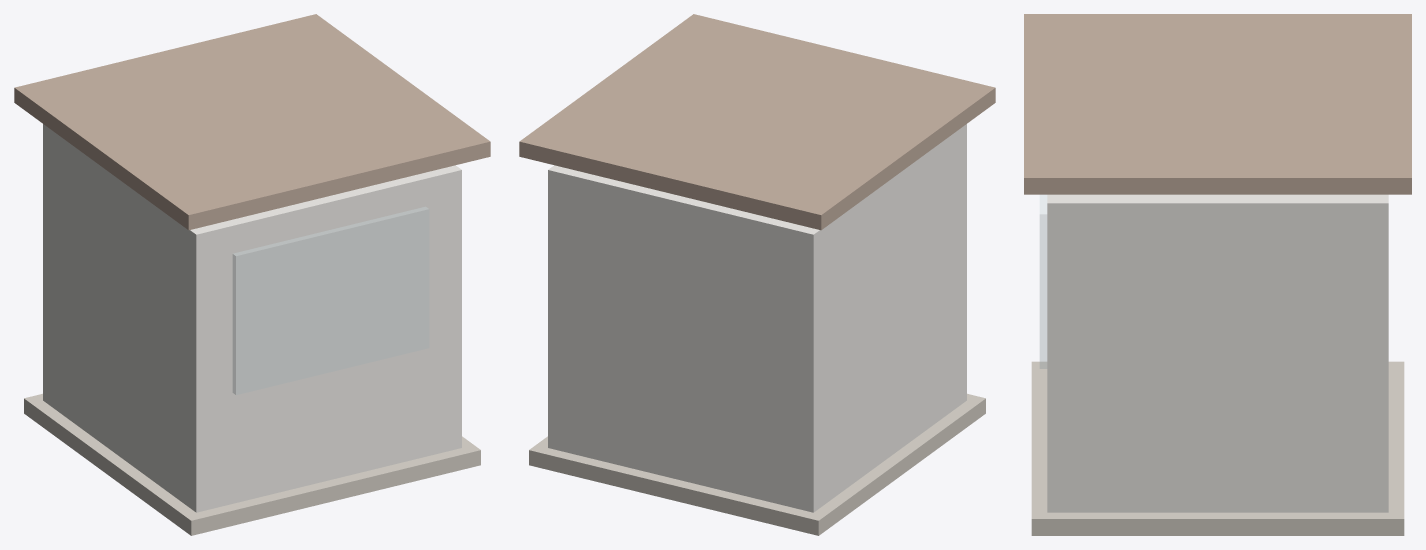
The model's file is security-booth.glb.
3 renders of one model, left to right at view 1: azimuth 30°, elevation 25°; view 2: azimuth 150°, elevation 25°; view 3: azimuth 270°, elevation 25°, orthographic. The views are drawn at different scales.
Visible parts, largest first — view 1: spatial-root; view 2: spatial-root; view 3: spatial-root.
Part boxes in pixels (x1=…): spatial-root: x1=14, y1=14, x2=490, y2=535; spatial-root: x1=519, y1=14, x2=995, y2=535; spatial-root: x1=1024, y1=14, x2=1411, y2=535.
Bounding box in the file's own units: 2.5 × 2.57 × 2.5.
